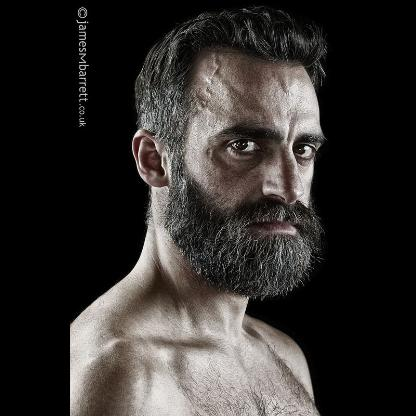Male: (130, 52, 318, 296)
